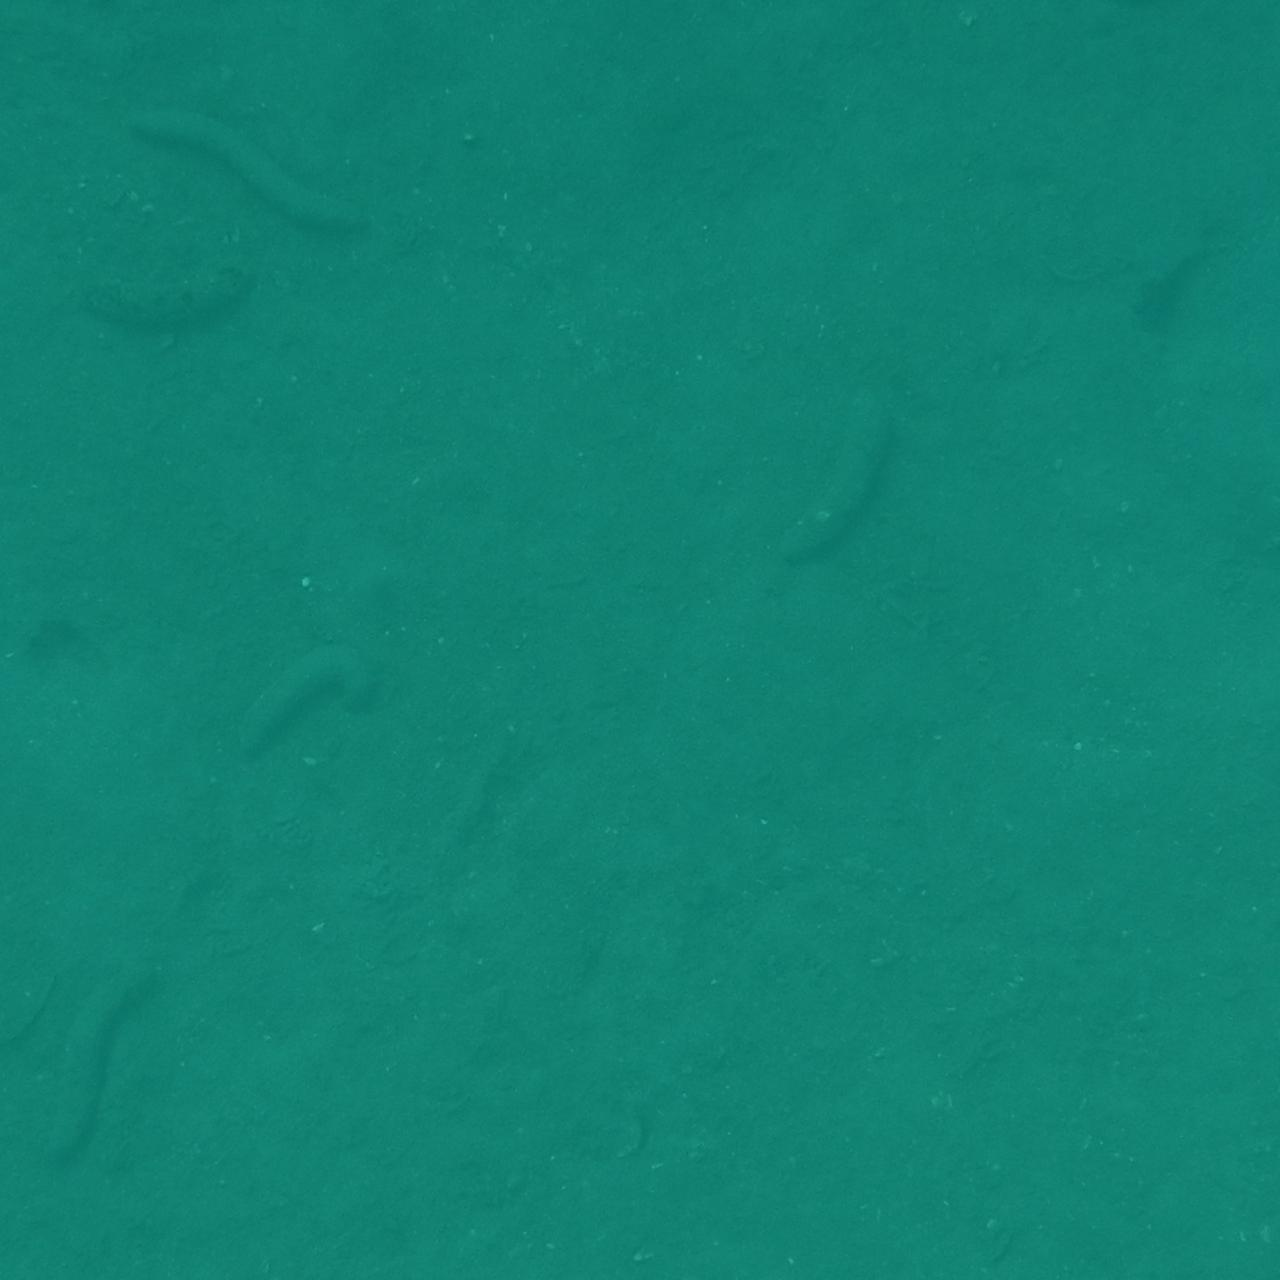Holothuria tubulosa: (95, 105, 392, 259), (198, 622, 402, 779), (749, 413, 938, 576), (56, 960, 193, 1184), (0, 454, 142, 652), (0, 229, 265, 326), (668, 0, 819, 138), (0, 817, 172, 937), (1160, 824, 1280, 980), (0, 0, 175, 102), (0, 14, 128, 150), (157, 0, 347, 84), (1124, 69, 1280, 169), (0, 0, 179, 84), (1096, 0, 1280, 82), (1164, 424, 1280, 550), (0, 1159, 118, 1280), (0, 865, 63, 1085), (0, 361, 52, 613), (0, 0, 158, 75), (1184, 0, 1280, 113), (0, 0, 61, 166), (1021, 0, 1261, 39), (1224, 0, 1280, 150), (0, 1160, 68, 1280), (1141, 0, 1280, 55), (0, 0, 109, 69), (1152, 1227, 1280, 1280), (0, 0, 30, 195), (0, 1233, 109, 1280), (1162, 1239, 1280, 1280)
